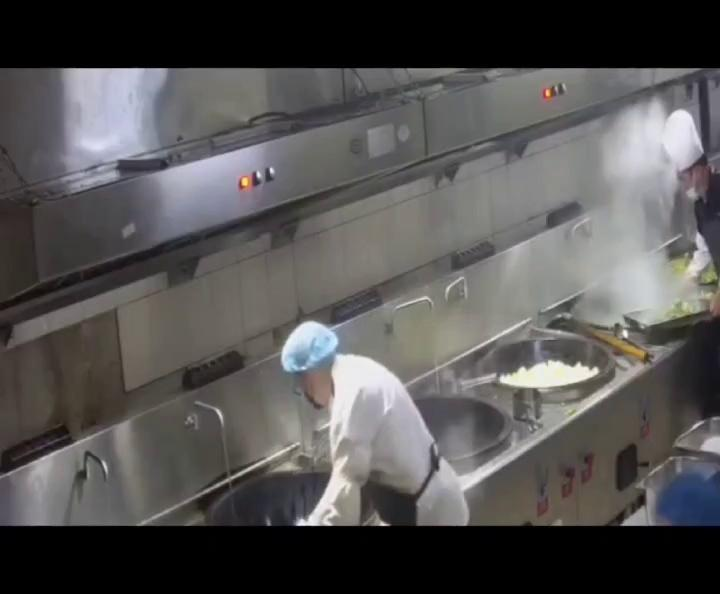mask: (680, 168, 708, 200)
